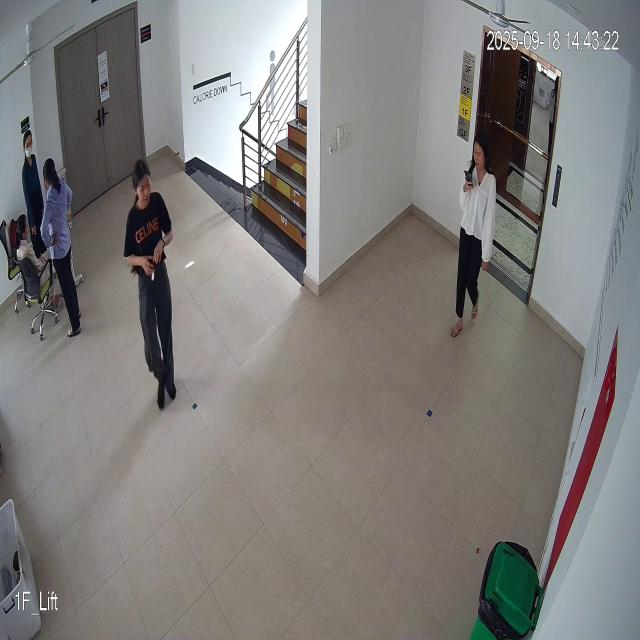face: (131, 162, 156, 216)
